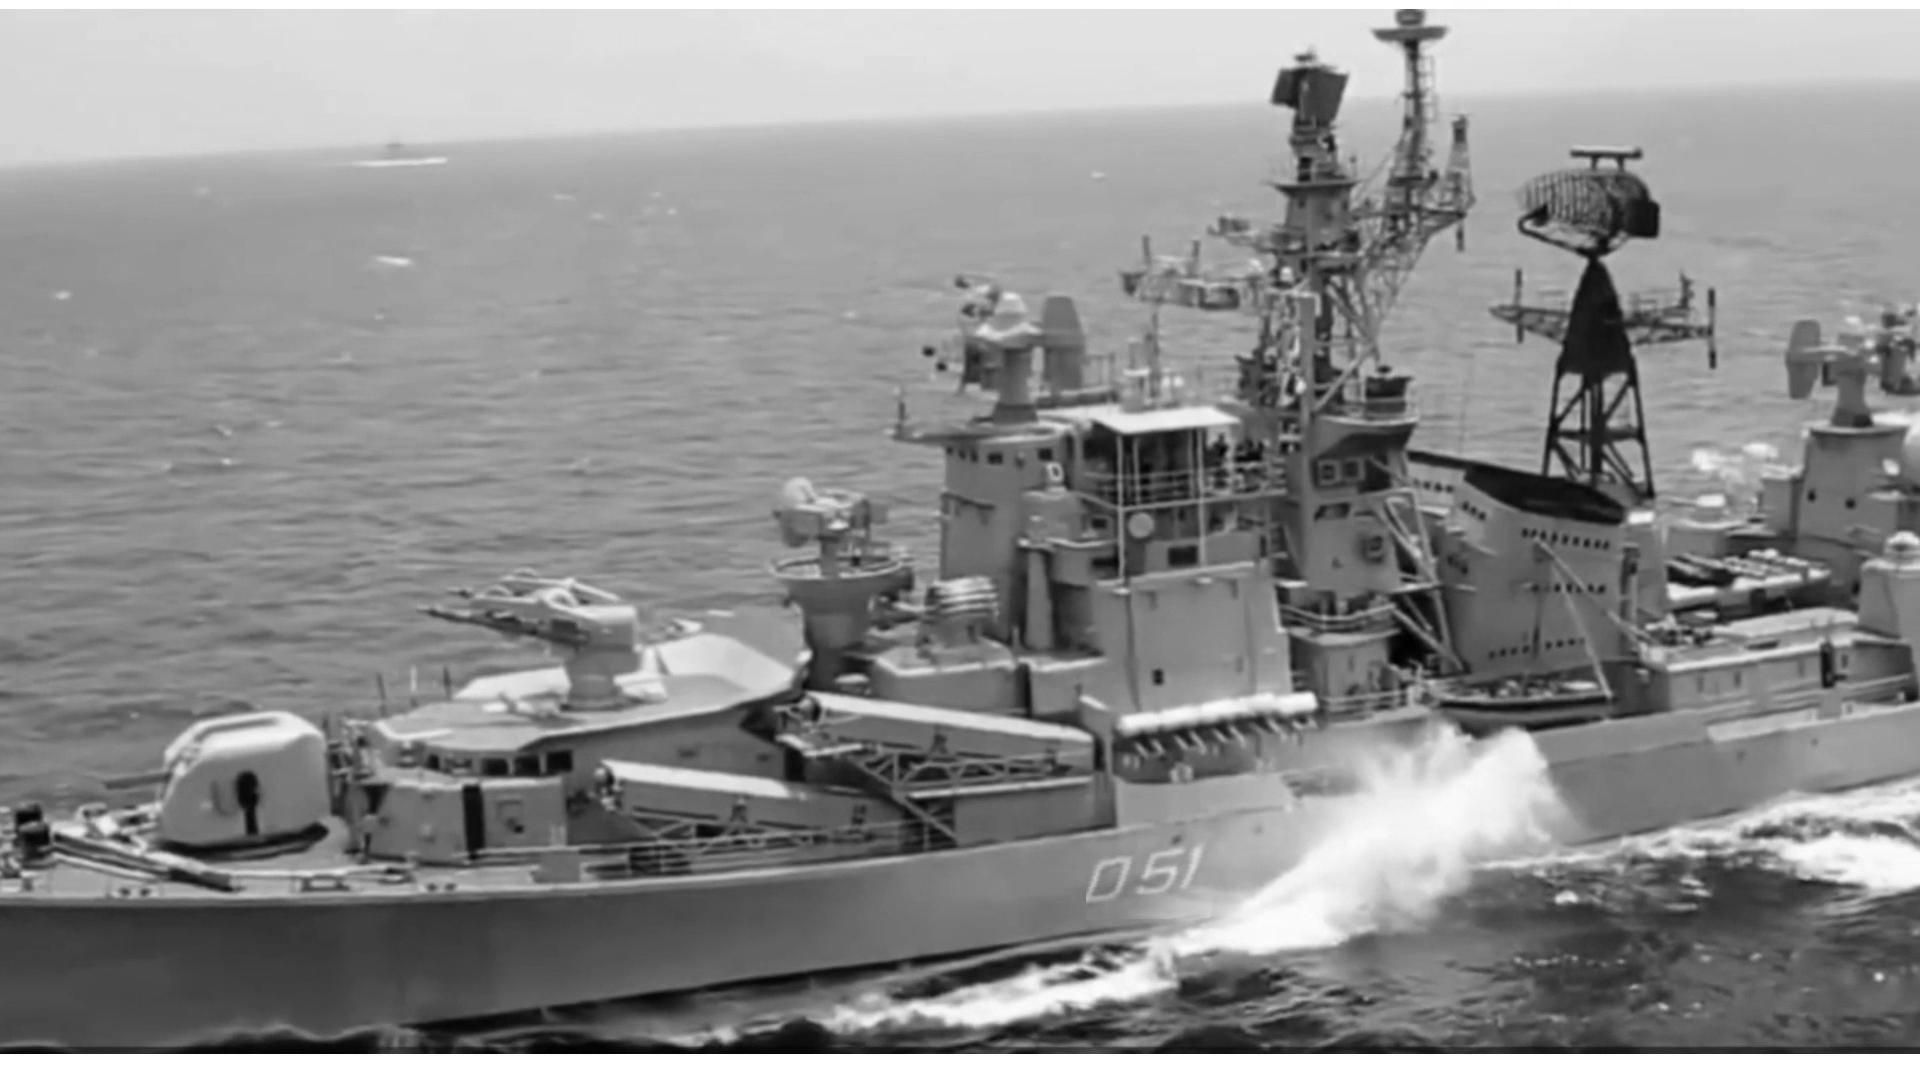OCR: (1086, 835, 1226, 920)
